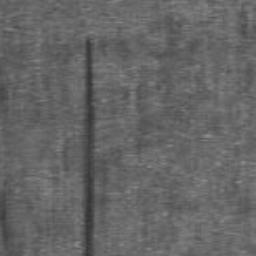Scratches: (84, 35, 96, 256)
